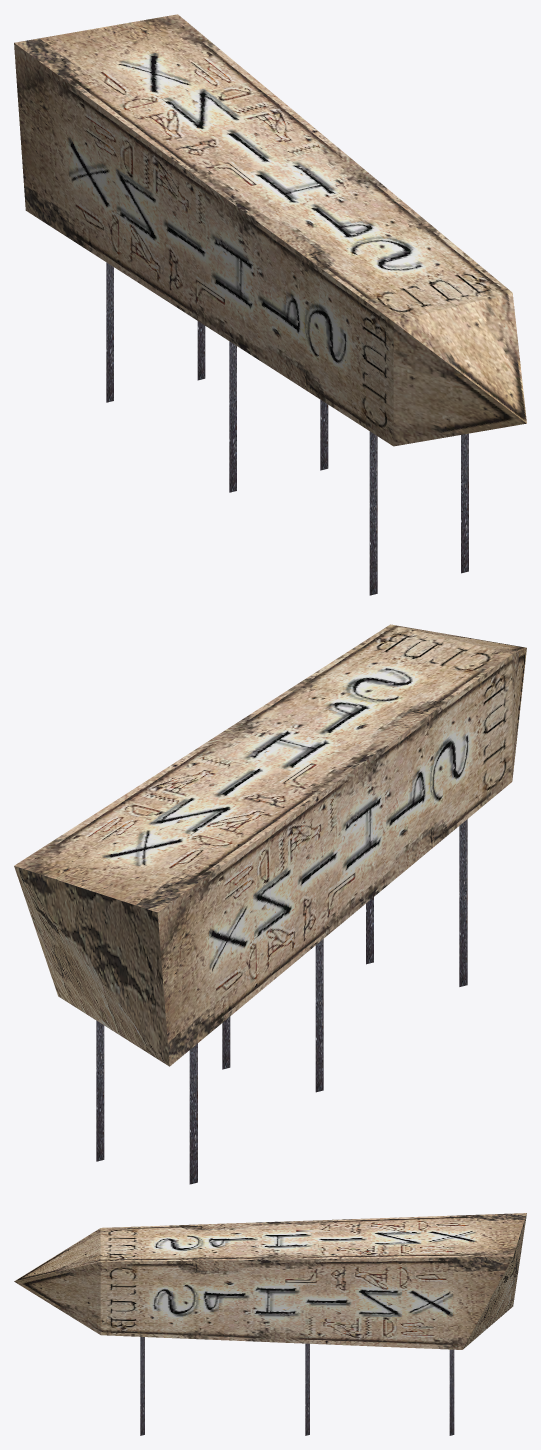
The model's file is sphinx.fbx.
3 renders of one model, top to bottom at view 1: azimuth 30°, elevation 25°; view 2: azimuth 150°, elevation 25°; view 3: azimuth 270°, elevation 25°, orthographic. The views are drawn at different scales.
Visible parts, largest first — view 1: mesh_0; view 2: mesh_0; view 3: mesh_0.
Boxes of the visible parts, x1,y1,x2,y2 form: mesh_0: [14, 14, 526, 595]; mesh_0: [14, 624, 526, 1184]; mesh_0: [14, 1213, 526, 1435].
Bounding box in the file's own units: 120 × 240 × 597.
1 material, 1 textured.
